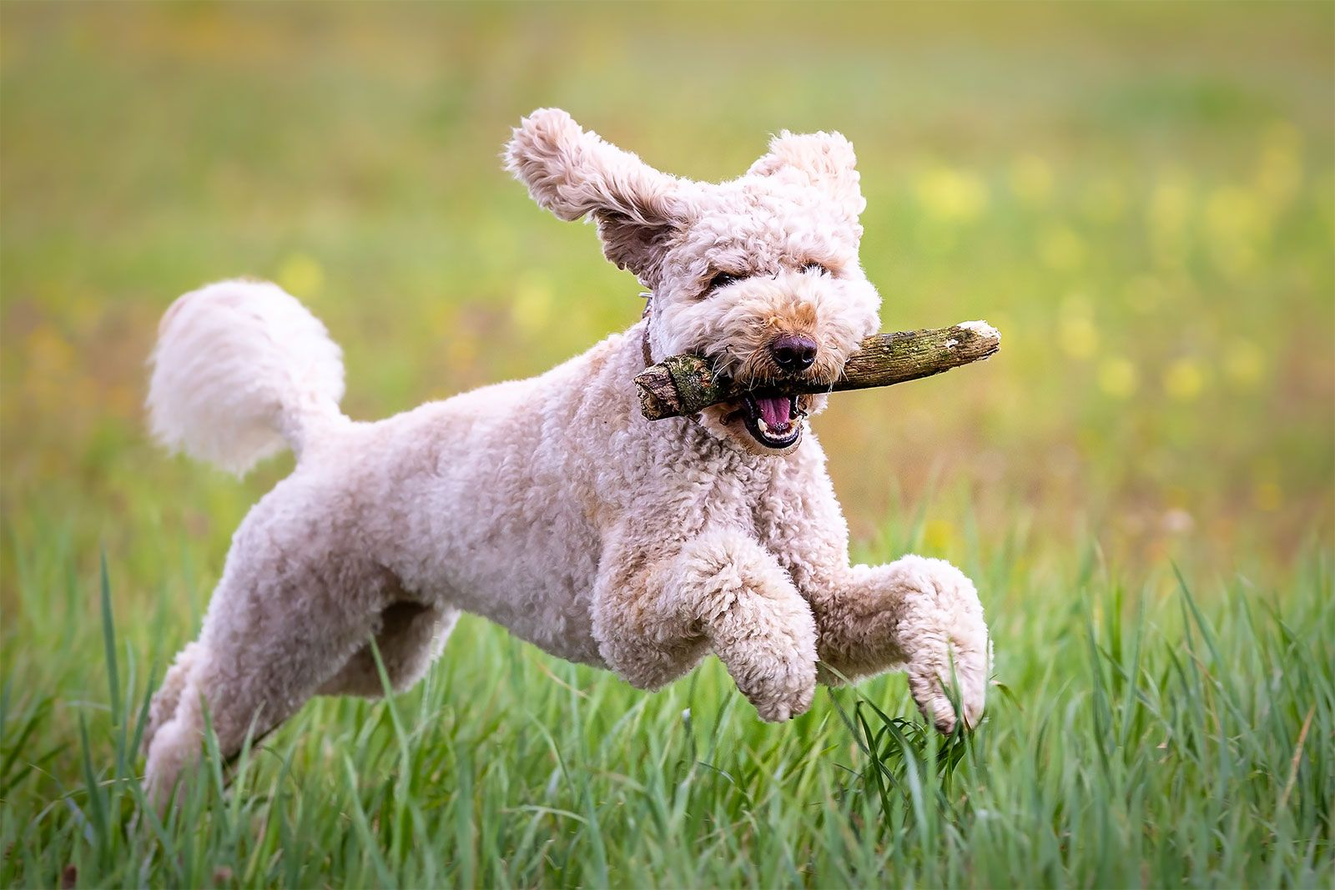Dog: (128, 98, 1056, 809)
